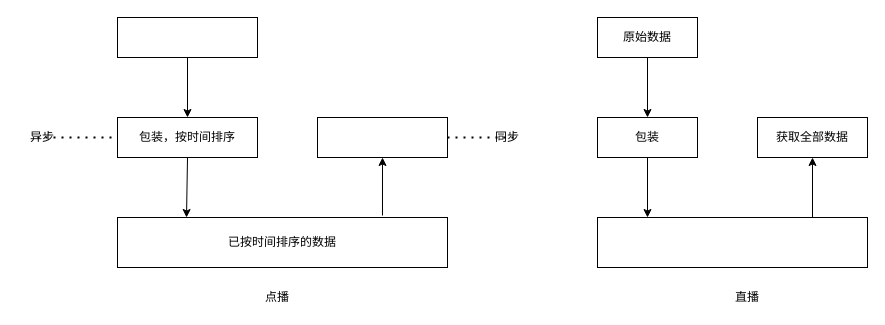
The diagram is 885 pixels wide and 325 high, and some of its shapes have lost their labels. The box of each missing label's shape, as (x1, y1, x2, y2) in pixels:
原始数据Model: (116, 16, 258, 58)
无须排序的数据: (596, 216, 868, 268)
遍历获取指定区间数据: (316, 116, 448, 158)
